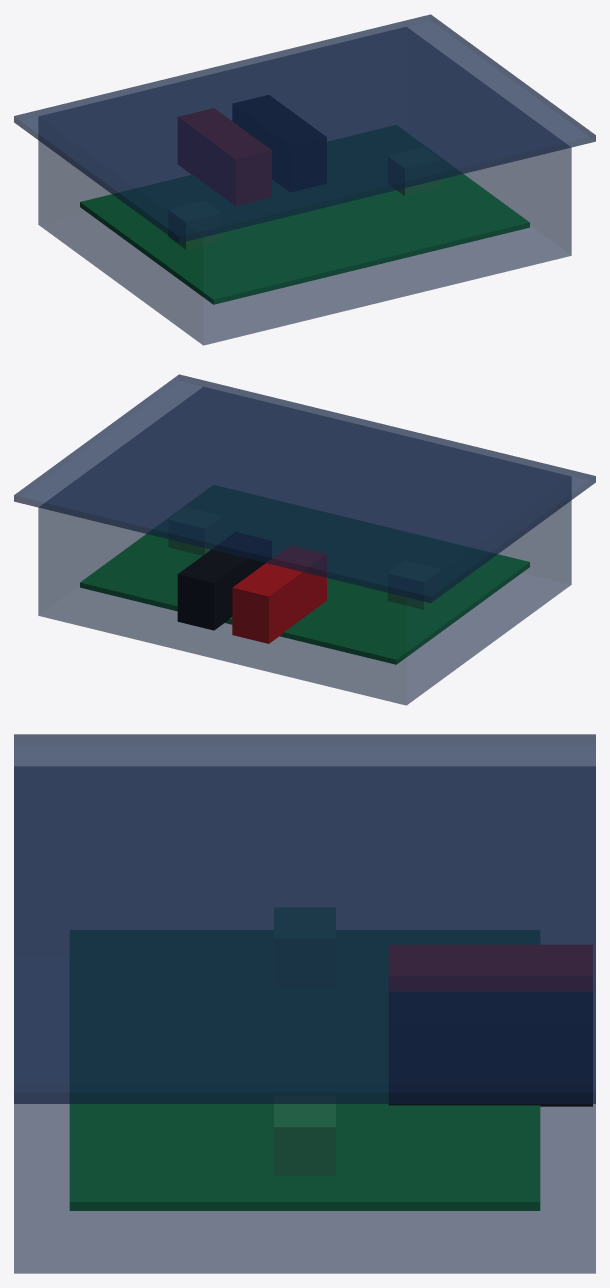
File: HR30_measurement_chain_calibration_fixture_candidate.glb
3 renders of one model, top to bottom at view 1: azimuth 30°, elevation 25°; view 2: azimuth 150°, elevation 25°; view 3: azimuth 270°, elevation 25°, orthographic. The views are drawn at different scales.
Visible parts, largest first — view 1: HAMMOND_1591GFLBK_ENVELOPE, FLANGED_LID, PASSIVE_BREAKOUT_PCB, JHI_RED, JLO_BLACK, JPS, JDUT; view 2: HAMMOND_1591GFLBK_ENVELOPE, FLANGED_LID, PASSIVE_BREAKOUT_PCB, JHI_RED, JLO_BLACK, JPS, JDUT; view 3: HAMMOND_1591GFLBK_ENVELOPE, FLANGED_LID, PASSIVE_BREAKOUT_PCB, JLO_BLACK, JHI_RED, JDUT, JPS.
Part boxes in pixels (bbox=[...]): HAMMOND_1591GFLBK_ENVELOPE: bbox=[38, 27, 571, 345]; FLANGED_LID: bbox=[14, 14, 595, 243]; PASSIVE_BREAKOUT_PCB: bbox=[80, 125, 529, 304]; JHI_RED: bbox=[178, 108, 271, 205]; JLO_BLACK: bbox=[233, 95, 326, 191]; JPS: bbox=[168, 201, 222, 249]; JDUT: bbox=[388, 147, 441, 196]; HAMMOND_1591GFLBK_ENVELOPE: bbox=[38, 387, 571, 705]; FLANGED_LID: bbox=[14, 374, 595, 603]; PASSIVE_BREAKOUT_PCB: bbox=[80, 485, 529, 664]; JHI_RED: bbox=[232, 546, 326, 643]; JLO_BLACK: bbox=[177, 532, 271, 630]; JPS: bbox=[387, 561, 441, 609]; JDUT: bbox=[168, 507, 221, 555]; HAMMOND_1591GFLBK_ENVELOPE: bbox=[14, 766, 595, 1273]; FLANGED_LID: bbox=[14, 734, 595, 1103]; PASSIVE_BREAKOUT_PCB: bbox=[69, 930, 540, 1210]; JLO_BLACK: bbox=[388, 992, 592, 1106]; JHI_RED: bbox=[389, 945, 592, 990]; JDUT: bbox=[274, 1096, 335, 1175]; JPS: bbox=[274, 908, 335, 986].
Size of the model in its own units: 137 by 36 by 94.
